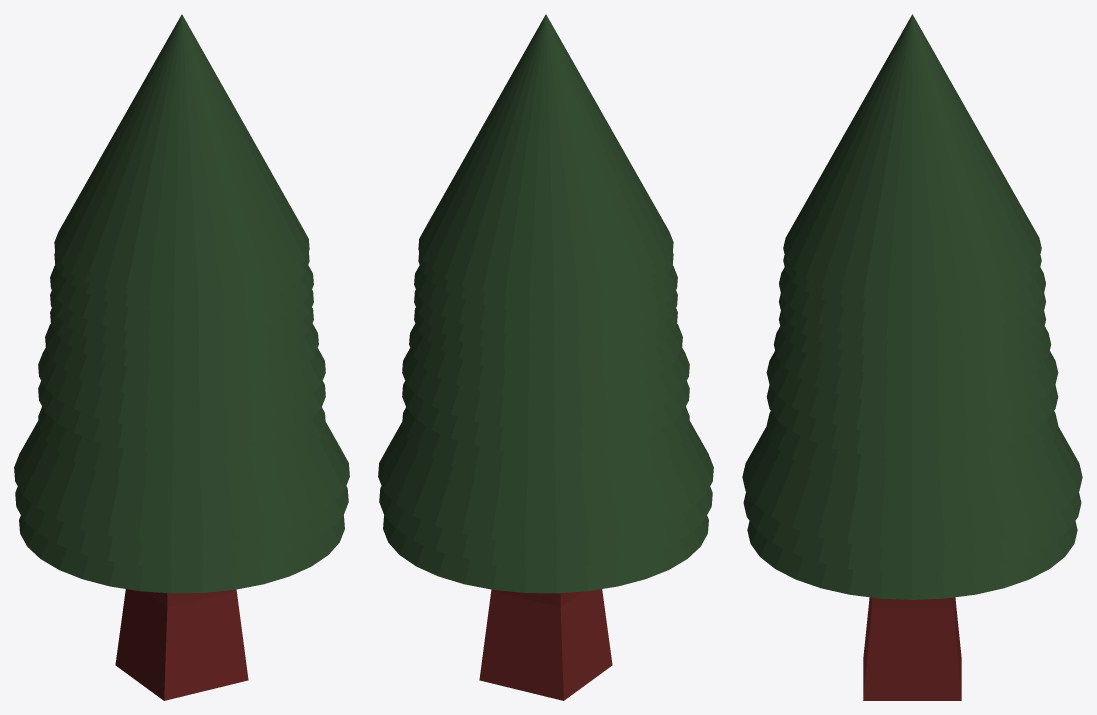
Rendered from connifer.glb.
3 views of the same model, side by side, from view 1: azimuth 30°, elevation 25°; view 2: azimuth 150°, elevation 25°; view 3: azimuth 270°, elevation 25° (orthographic).
Parts seen in each view (by area): view 1: Cone.011, Cone.002, Cube, Cone.005, Cone.001, Cone, Cone.003, Cone.006, Cone.004, Cone.009, Cone.008, Cone.007 (+1 smaller); view 2: Cone.011, Cone.002, Cube, Cone.005, Cone.001, Cone, Cone.003, Cone.006, Cone.004, Cone.009, Cone.008, Cone.007 (+1 smaller); view 3: Cone.011, Cone.002, Cube, Cone.005, Cone.001, Cone, Cone.003, Cone.006, Cone.004, Cone.009, Cone.008, Cone.007 (+1 smaller).
Boxes of the visible parts, bbox=[...] form: Cone.011: bbox=[54, 14, 309, 299]; Cone.002: bbox=[14, 421, 349, 542]; Cube: bbox=[115, 589, 248, 700]; Cone.005: bbox=[38, 347, 325, 429]; Cone.001: bbox=[15, 486, 348, 567]; Cone: bbox=[19, 515, 344, 593]; Cone.003: bbox=[38, 406, 325, 481]; Cone.006: bbox=[45, 323, 318, 398]; Cone.004: bbox=[38, 381, 325, 453]; Cone.009: bbox=[50, 265, 313, 336]; Cone.008: bbox=[50, 290, 313, 354]; Cone.007: bbox=[50, 307, 313, 371]; Cone.011: bbox=[418, 14, 673, 299]; Cone.002: bbox=[378, 421, 713, 542]; Cube: bbox=[479, 589, 612, 700]; Cone.005: bbox=[402, 347, 689, 429]; Cone.001: bbox=[379, 486, 712, 567]; Cone: bbox=[383, 515, 708, 593]; Cone.003: bbox=[402, 406, 689, 481]; Cone.006: bbox=[409, 323, 682, 398]; Cone.004: bbox=[402, 381, 689, 453]; Cone.009: bbox=[414, 265, 677, 336]; Cone.008: bbox=[414, 290, 677, 354]; Cone.007: bbox=[414, 307, 677, 371]; Cone.011: bbox=[783, 14, 1041, 302]; Cone.002: bbox=[742, 426, 1082, 548]; Cube: bbox=[863, 597, 961, 700]; Cone.005: bbox=[766, 351, 1058, 434]; Cone.001: bbox=[743, 492, 1081, 574]; Cone: bbox=[747, 521, 1077, 599]; Cone.003: bbox=[766, 411, 1058, 486]; Cone.006: bbox=[773, 326, 1051, 402]; Cone.004: bbox=[766, 385, 1058, 458]; Cone.009: bbox=[779, 267, 1045, 340]; Cone.008: bbox=[779, 293, 1045, 358]; Cone.007: bbox=[779, 311, 1045, 375].
Bounding box in the file's own units: 13.93 × 30.09 × 13.93.
